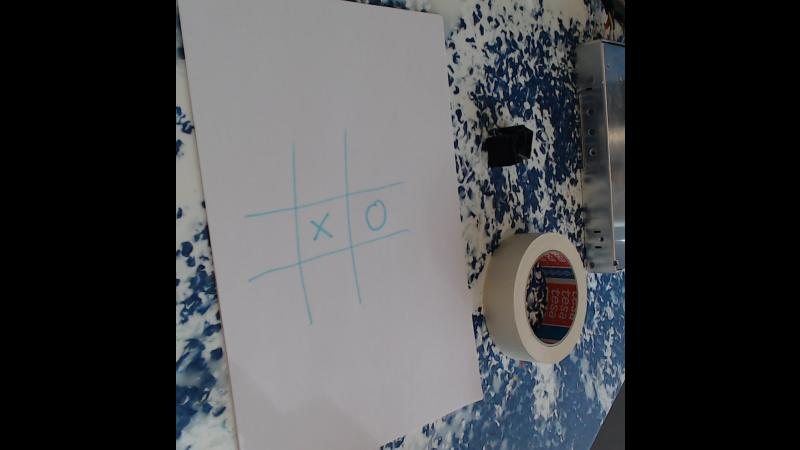O: (358, 196, 396, 234)
X: (306, 208, 338, 250)
grid: (240, 122, 414, 334)
